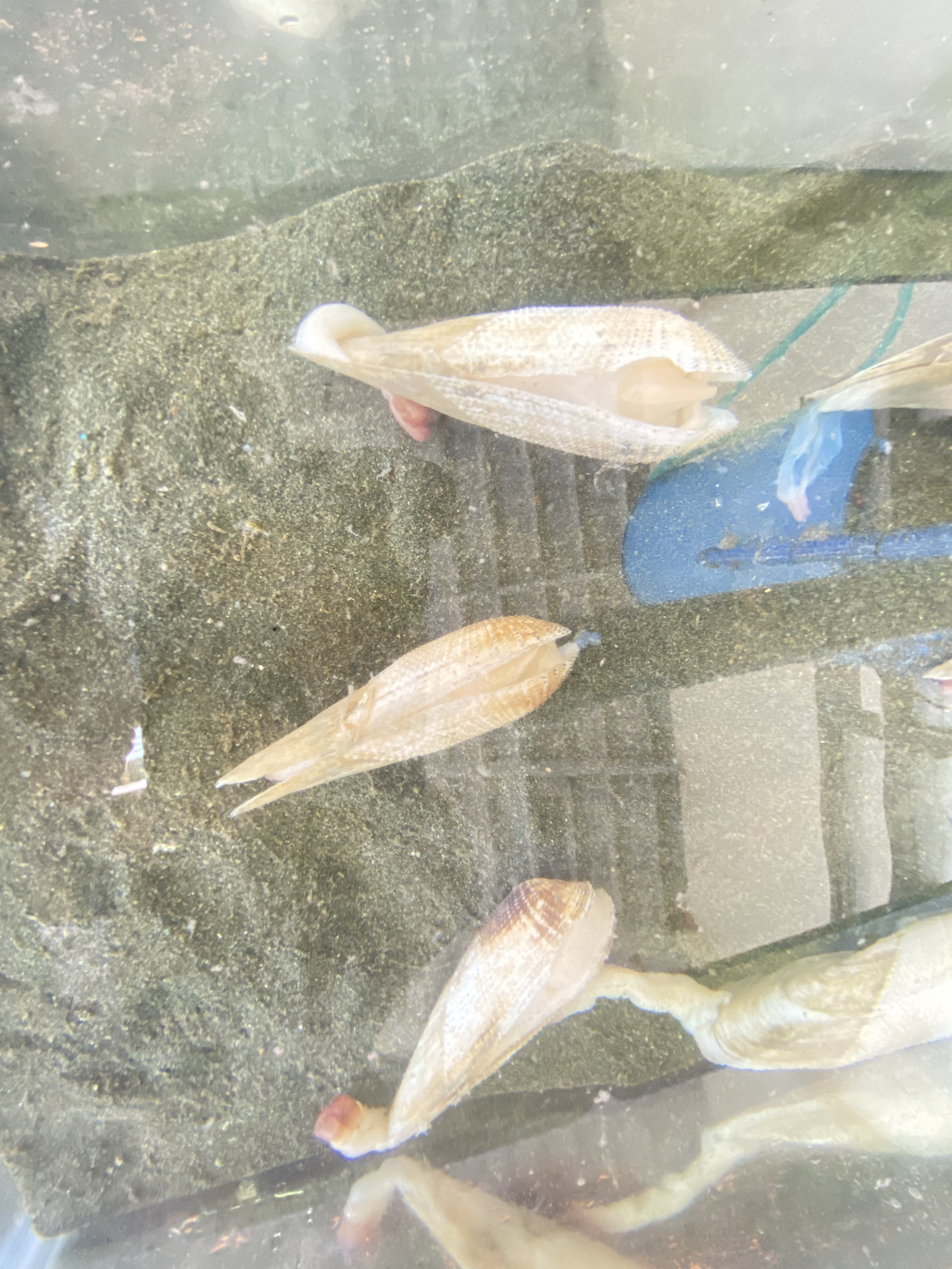At risk: (318, 881, 613, 1156), (218, 616, 591, 816), (292, 304, 748, 466), (572, 914, 952, 1069), (776, 333, 952, 522)
